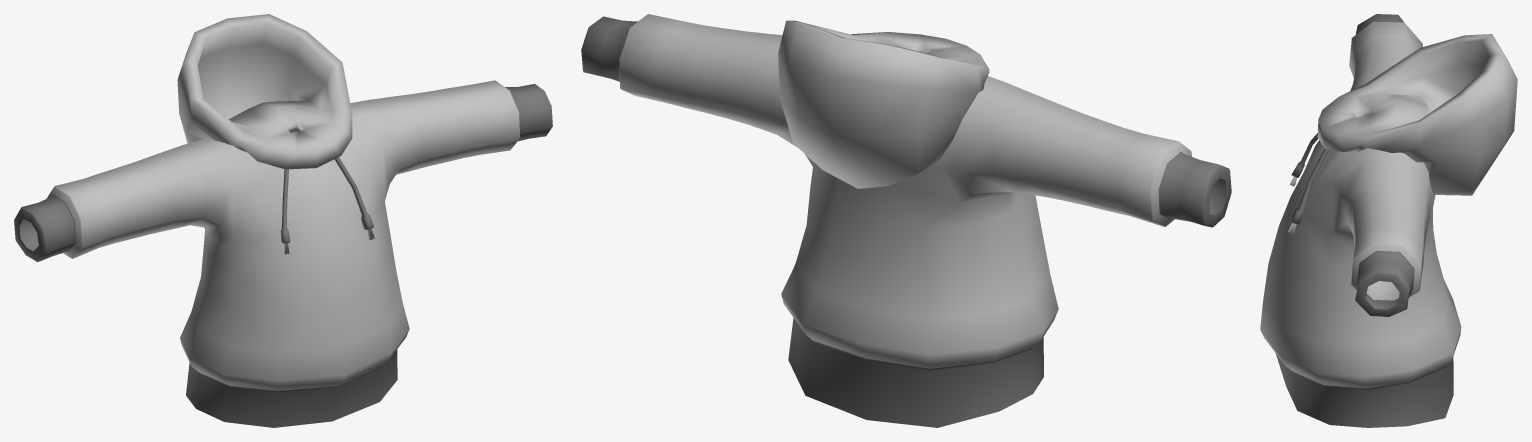
The model's file is Outerwear_White_001.glb.
The picture shows the model from 3 angles, left to right: view 1: azimuth 30°, elevation 25°; view 2: azimuth 150°, elevation 25°; view 3: azimuth 270°, elevation 25°; orthographic projection. The views are drawn at different scales.
Visible parts, largest first — view 1: Outerwear_White_001; view 2: Outerwear_White_001; view 3: Outerwear_White_001.
Boxes of the visible parts, left/top/right/bottom form: Outerwear_White_001: left=14, top=14, right=552, bottom=427; Outerwear_White_001: left=581, top=14, right=1231, bottom=427; Outerwear_White_001: left=1260, top=14, right=1517, bottom=427.
Size of the model in its own units: 1.27 by 0.7836 by 0.5333.
Materials: 1 (1 with a texture image).
